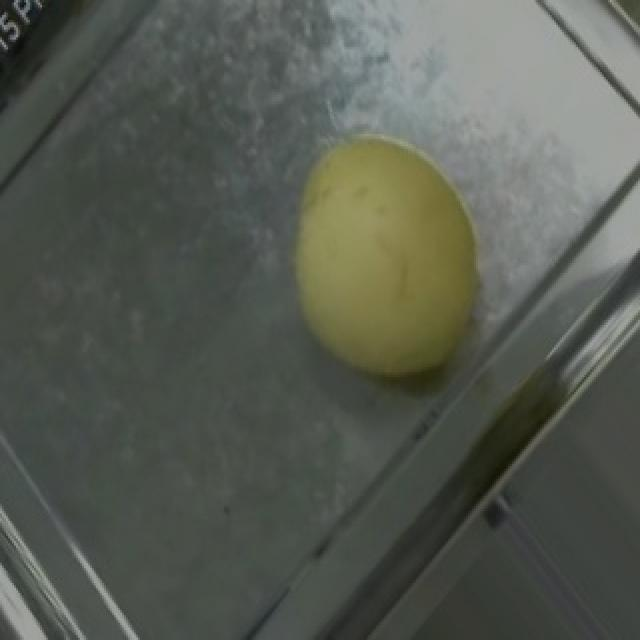Fruit: (242, 97, 530, 419)
